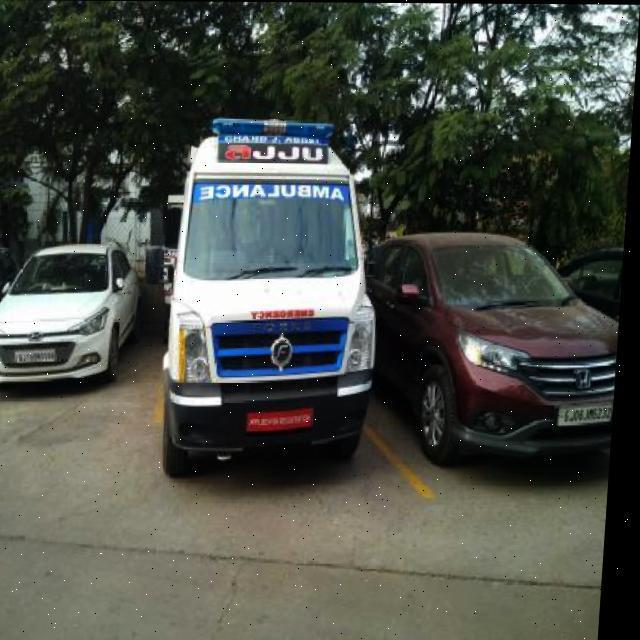Ambulance: (0, 110, 632, 485), (0, 306, 622, 640), (155, 114, 396, 480), (354, 227, 627, 470), (0, 238, 151, 394), (0, 237, 26, 386)
